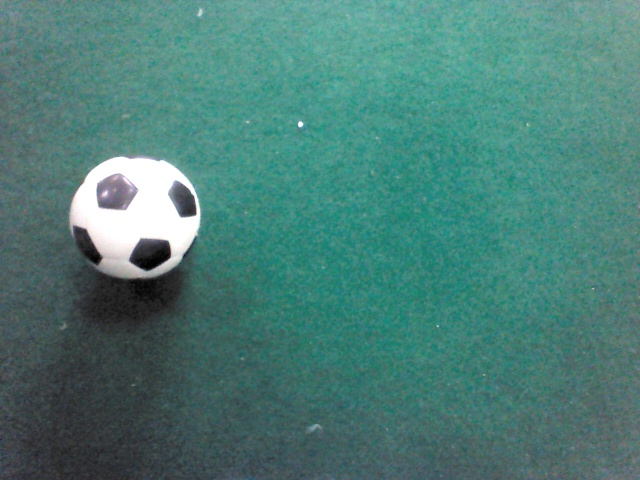ball: (67, 154, 203, 283)
